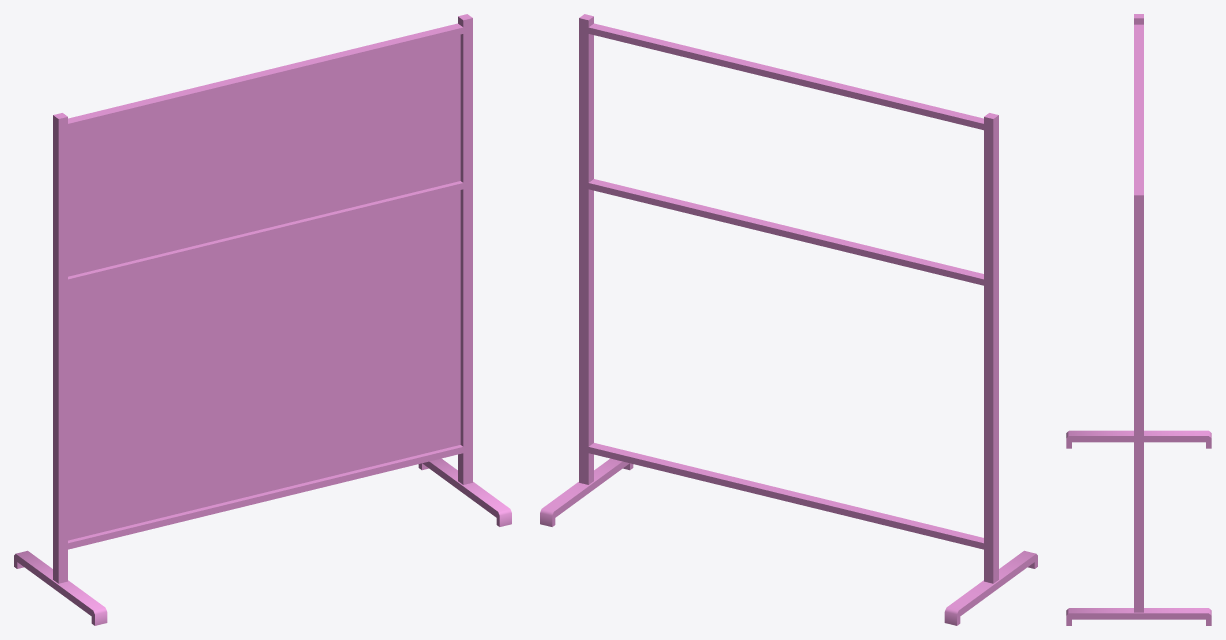
Rendered from SM_Fence_01.glb.
3 renders of one model, left to right at view 1: azimuth 30°, elevation 25°; view 2: azimuth 150°, elevation 25°; view 3: azimuth 270°, elevation 25°, orthographic. The views are drawn at different scales.
Parts seen in each view (by area): view 1: SM_fence_01; view 2: SM_fence_01; view 3: SM_fence_01.
Part boxes in pixels (<box>): SM_fence_01: <box>14,14,511,625</box>; SM_fence_01: <box>540,14,1037,625</box>; SM_fence_01: <box>1066,14,1211,625</box>.
Size of the model in its own units: 3.21 by 3.53 by 1.08.
